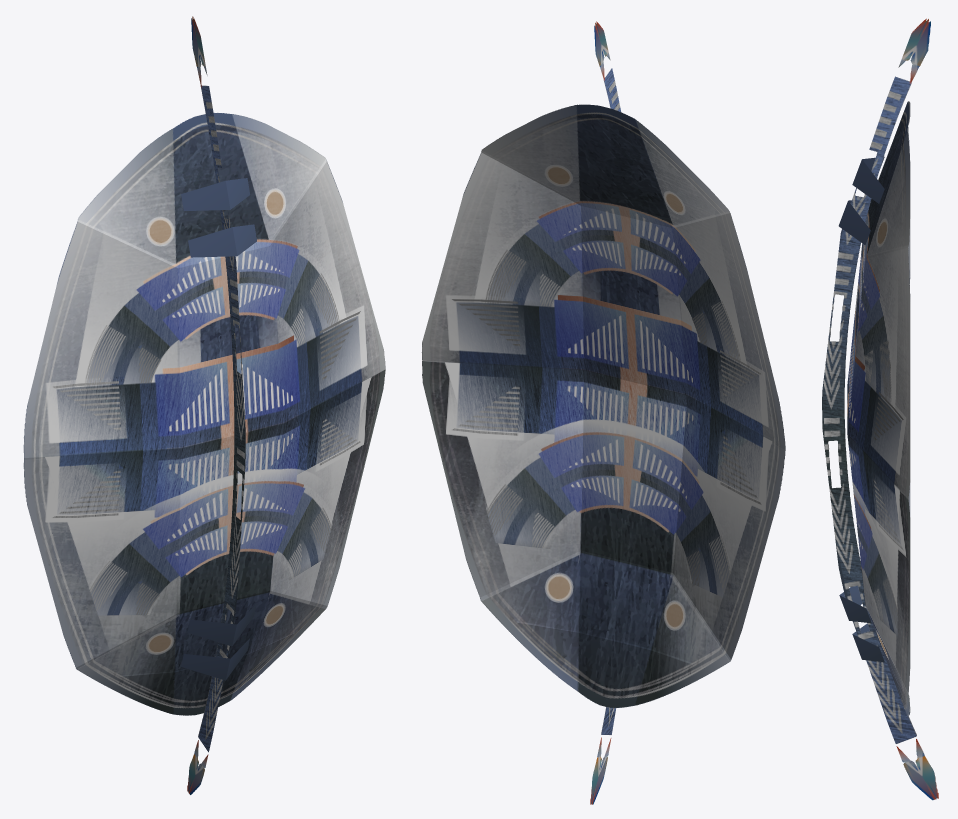
Rendered from shielda.obj.
The picture shows the model from 3 angles, left to right: view 1: azimuth 30°, elevation 25°; view 2: azimuth 150°, elevation 25°; view 3: azimuth 270°, elevation 25°; orthographic projection.
Parts seen in each view (by area): view 1: shield_a, stick, tape_02, tape_01, tape_03, tape_04; view 2: shield_a, stick; view 3: shield_a, stick, tape_01, tape_02, tape_03, tape_04.
Part boxes in pixels (<box>): shield_a: <box>23,112,385,715</box>; stick: <box>187,16,245,794</box>; tape_02: <box>188,224,256,257</box>; tape_01: <box>181,178,250,210</box>; tape_03: <box>187,604,256,646</box>; tape_04: <box>181,638,249,680</box>; shield_a: <box>421,104,785,708</box>; stick: <box>590,21,620,804</box>; shield_a: <box>847,101,910,716</box>; stick: <box>822,18,938,800</box>; tape_01: <box>852,156,884,203</box>; tape_02: <box>838,200,870,244</box>; tape_03: <box>839,585,871,623</box>; tape_04: <box>852,623,884,662</box>.
Bounding box in the file's own units: 303 × 612 × 86.63.
